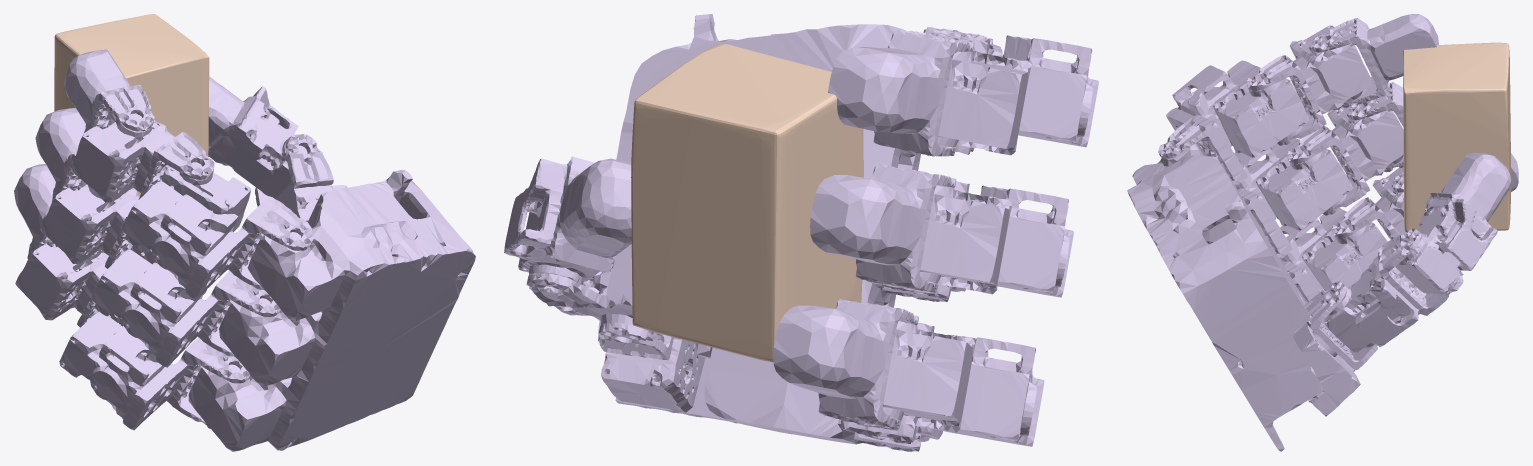
Rendered from 73478ec330963d-closed.glb.
The picture shows the model from 3 angles, left to right: view 1: azimuth 30°, elevation 25°; view 2: azimuth 150°, elevation 25°; view 3: azimuth 270°, elevation 25°; orthographic projection. The views are drawn at different scales.
Parts seen in each view (by area): view 1: LEAP_hand, world; view 2: LEAP_hand, world; view 3: LEAP_hand, world.
Part boxes in pixels (bbox=[...]): LEAP_hand: bbox=[14, 49, 475, 451]; world: bbox=[54, 14, 209, 196]; LEAP_hand: bbox=[504, 14, 1098, 451]; world: bbox=[631, 44, 863, 362]; LEAP_hand: bbox=[1127, 14, 1518, 451]; world: bbox=[1403, 42, 1511, 232].
Bounding box in the file's own units: 0.165 × 0.1723 × 0.1864.
